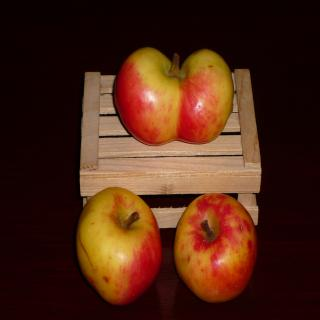Apple: (112, 48, 235, 147), (73, 187, 163, 306), (172, 200, 256, 308)
